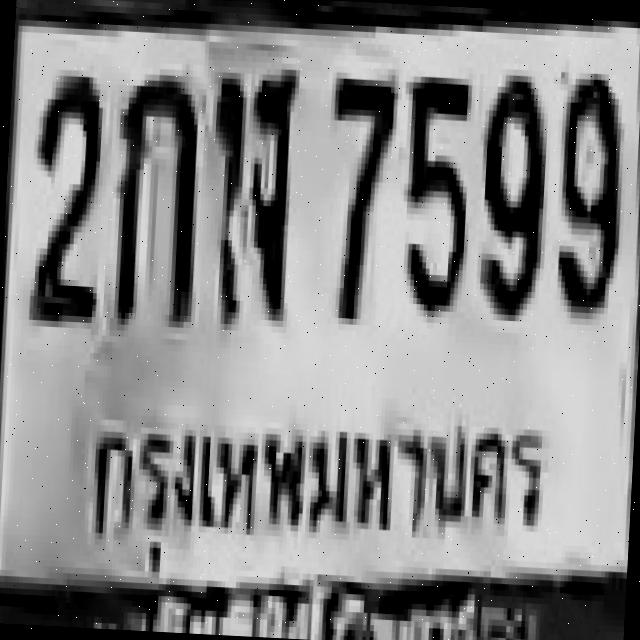10GorGai: (106, 67, 200, 322)
2: (24, 66, 103, 320)
5: (398, 70, 473, 312)
51LorChula: (202, 60, 296, 321)
7: (320, 72, 396, 320)
9: (552, 66, 624, 314), (475, 68, 547, 316)
Bangkok: (80, 378, 558, 558)
